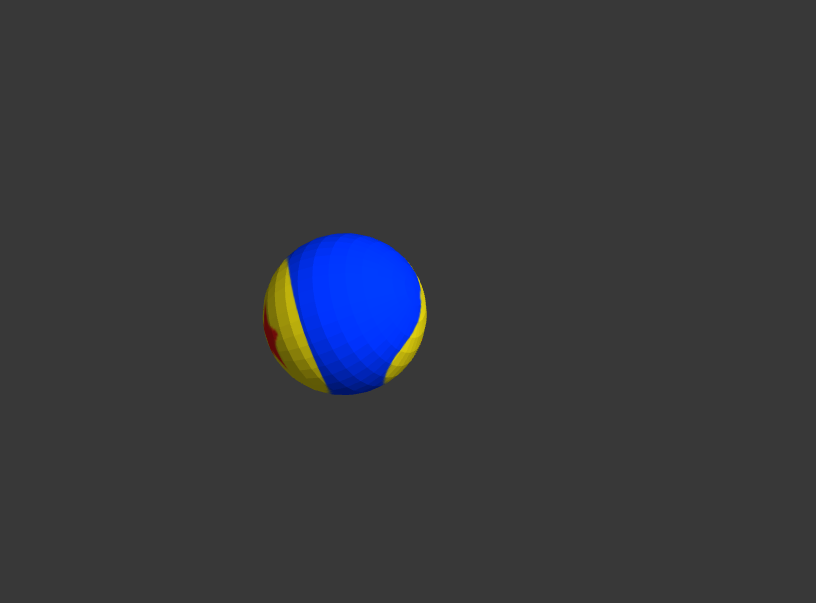toy story ball: (255, 228, 432, 396)
